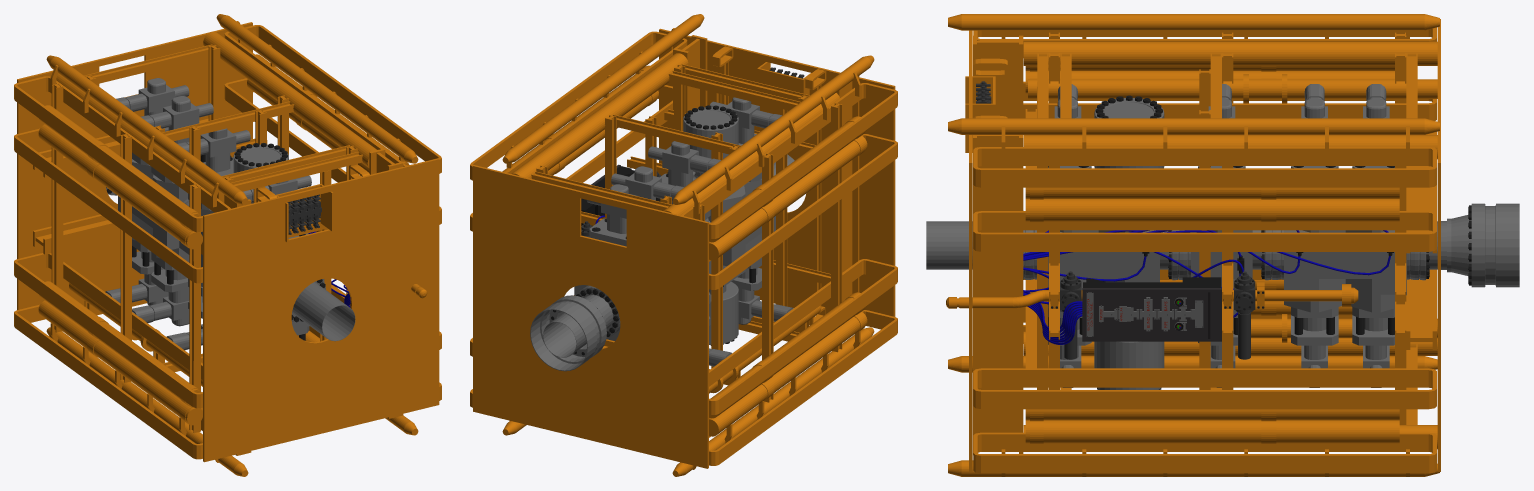
The model's file is VentilBlock.obj.
The picture shows the model from 3 angles, left to right: view 1: azimuth 30°, elevation 25°; view 2: azimuth 150°, elevation 25°; view 3: azimuth 270°, elevation 25°; orthographic projection. The views are drawn at different scales.
Parts seen in each view (by area): view 1: Deckplatte_grp, Side_Vents1_grp, Ventile_grp, Schrauben_grp; view 2: Deckplatte_grp, Side_Vents1_grp, Schrauben_grp, Material_003_grp; view 3: Deckplatte_grp, Side_Vents1_grp, Material_001_grp, Material_002_grp, Ventile_grp, Panel_Discription_grp, Schrauben_grp, Material_003_grp.
Boxes of the visible parts, x1,y1,x2,y2 form: Deckplatte_grp: [14, 14, 441, 476]; Side_Vents1_grp: [105, 78, 355, 350]; Ventile_grp: [287, 194, 321, 234]; Schrauben_grp: [106, 143, 325, 340]; Deckplatte_grp: [470, 14, 897, 476]; Side_Vents1_grp: [530, 97, 794, 371]; Schrauben_grp: [551, 105, 755, 355]; Material_003_grp: [581, 166, 634, 226]; Deckplatte_grp: [946, 14, 1440, 476]; Side_Vents1_grp: [926, 84, 1519, 389]; Material_001_grp: [1082, 288, 1221, 341]; Material_002_grp: [1023, 230, 1390, 344]; Ventile_grp: [976, 81, 1255, 359]; Panel_Discription_grp: [1086, 292, 1203, 336]; Schrauben_grp: [1048, 95, 1471, 389]; Material_003_grp: [1083, 252, 1393, 287].
Size of the model in its own units: 7.32 by 8 by 12.05.
